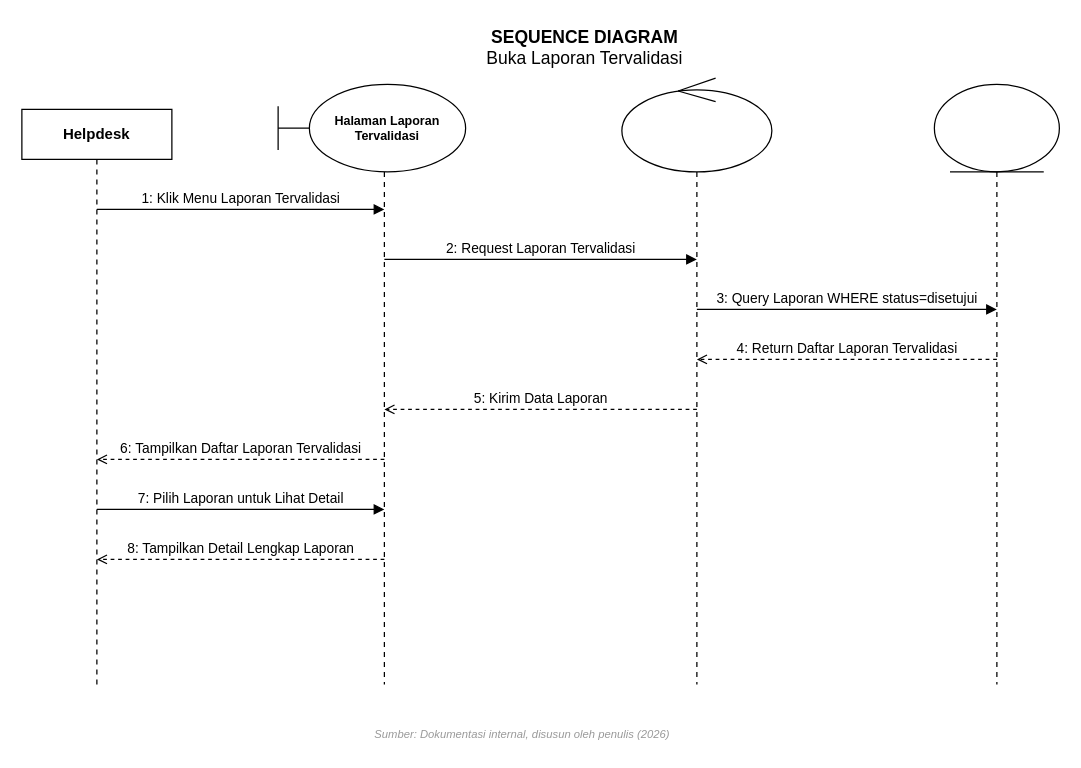
Image size: 1081x768. Some labels were removed from this diagram. Here are the shapes that lost their labels. From the top down, the centre of each, then its label:
pixel 696 124: ReportController
pixel 996 127: Database
